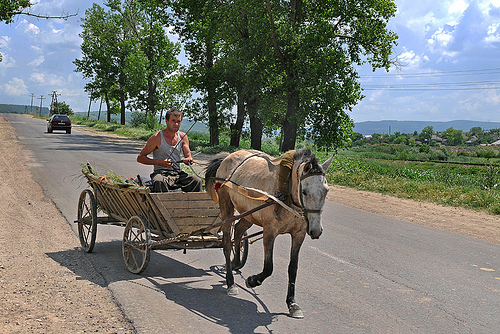horse: (206, 147, 333, 319)
